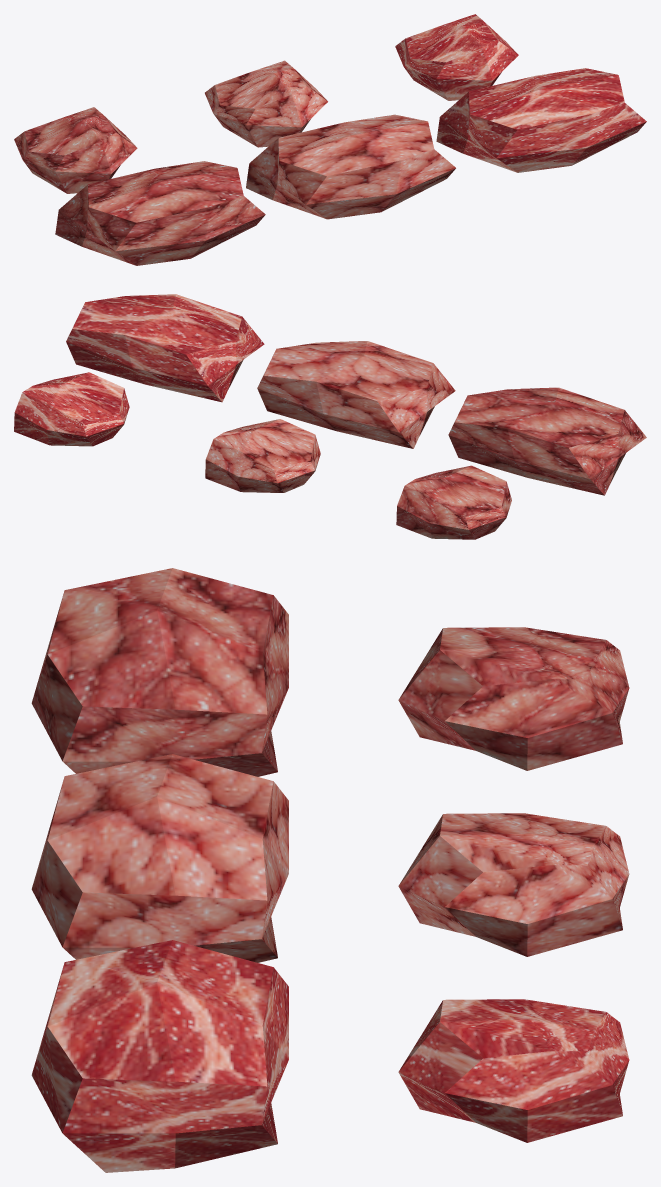
Rendered from meatpack.fbx.
The picture shows the model from 3 angles, top to bottom: view 1: azimuth 30°, elevation 25°; view 2: azimuth 150°, elevation 25°; view 3: azimuth 270°, elevation 25°; orthographic projection. The views are drawn at different scales.
Parts seen in each view (by area): view 1: Cube.002, Cube.001, Cube.003, Cube.004, Cube.006, Cube.005; view 2: Cube.002, Cube.001, Cube.003, Cube.004, Cube.005, Cube.006; view 3: Cube.002, Cube.001, Cube.003, Cube.004, Cube.005, Cube.006.
Boxes of the visible parts, bbox=[...] form: Cube.002: bbox=[436, 68, 646, 172]; Cube.001: bbox=[246, 114, 455, 219]; Cube.003: bbox=[55, 161, 265, 265]; Cube.004: bbox=[205, 60, 327, 147]; Cube.006: bbox=[14, 107, 137, 193]; Cube.005: bbox=[395, 14, 518, 100]; Cube.002: bbox=[66, 294, 264, 402]; Cube.001: bbox=[257, 341, 455, 448]; Cube.003: bbox=[448, 387, 646, 495]; Cube.004: bbox=[205, 419, 320, 492]; Cube.005: bbox=[14, 372, 129, 446]; Cube.006: bbox=[396, 465, 511, 539]; Cube.002: bbox=[31, 940, 288, 1172]; Cube.001: bbox=[31, 754, 288, 962]; Cube.003: bbox=[31, 568, 288, 776]; Cube.004: bbox=[398, 813, 629, 956]; Cube.005: bbox=[398, 999, 629, 1142]; Cube.006: bbox=[398, 627, 629, 770].
Bounding box in the file's own units: 1422 × 153 × 679.
5 materials, 5 textured.
